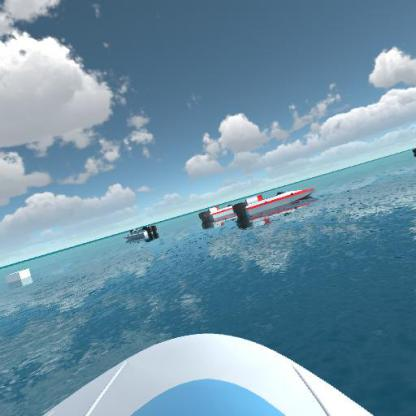usv0: (126, 223, 150, 234)
usv1: (121, 225, 160, 243)
usv3: (234, 182, 320, 221), (196, 200, 245, 226)
